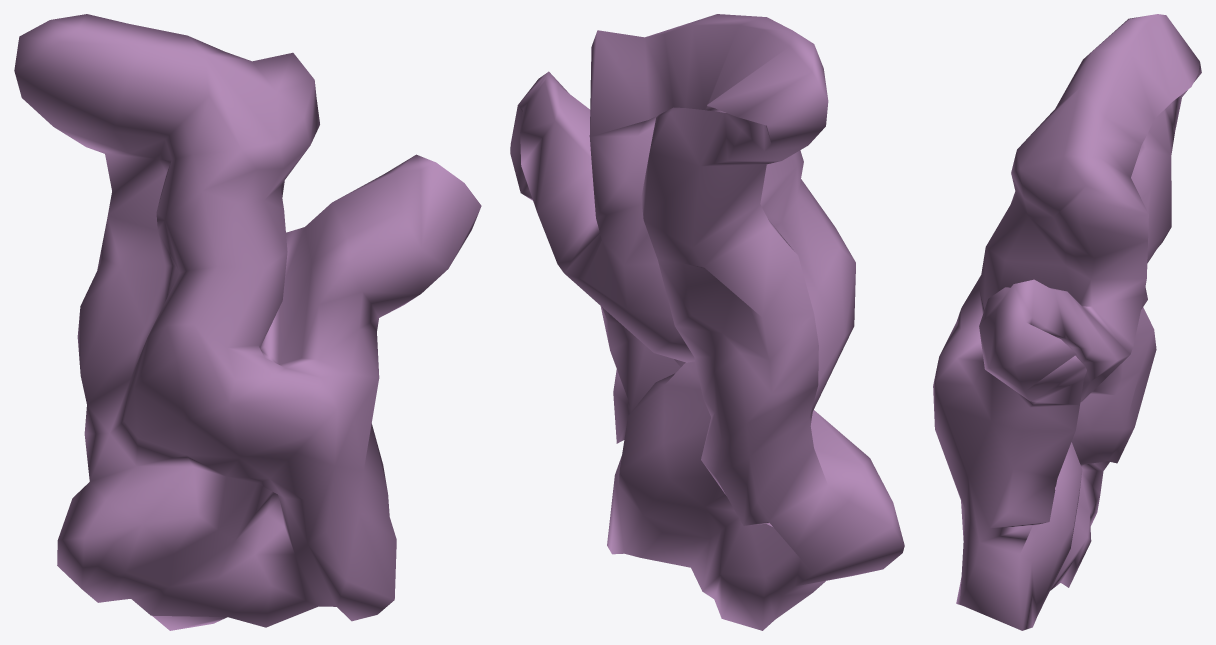
3 renders of one model, left to right at view 1: azimuth 30°, elevation 25°; view 2: azimuth 150°, elevation 25°; view 3: azimuth 270°, elevation 25°, orthographic. The views are drawn at different scales.
Parts seen in each view (by area): view 1: 左侧眶沟（H形眶沟）; view 2: 左侧眶沟（H形眶沟）; view 3: 左侧眶沟（H形眶沟）.
Boxes of the visible parts, <box> form: 左侧眶沟（H形眶沟）: <box>14,14,481,630</box>; 左侧眶沟（H形眶沟）: <box>510,14,904,630</box>; 左侧眶沟（H形眶沟）: <box>933,14,1201,630</box>.
Size of the model in its own units: 0.0419 by 0.0612 by 0.0282.
